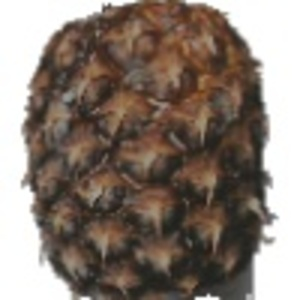abacaxi: (16, 2, 275, 294)
